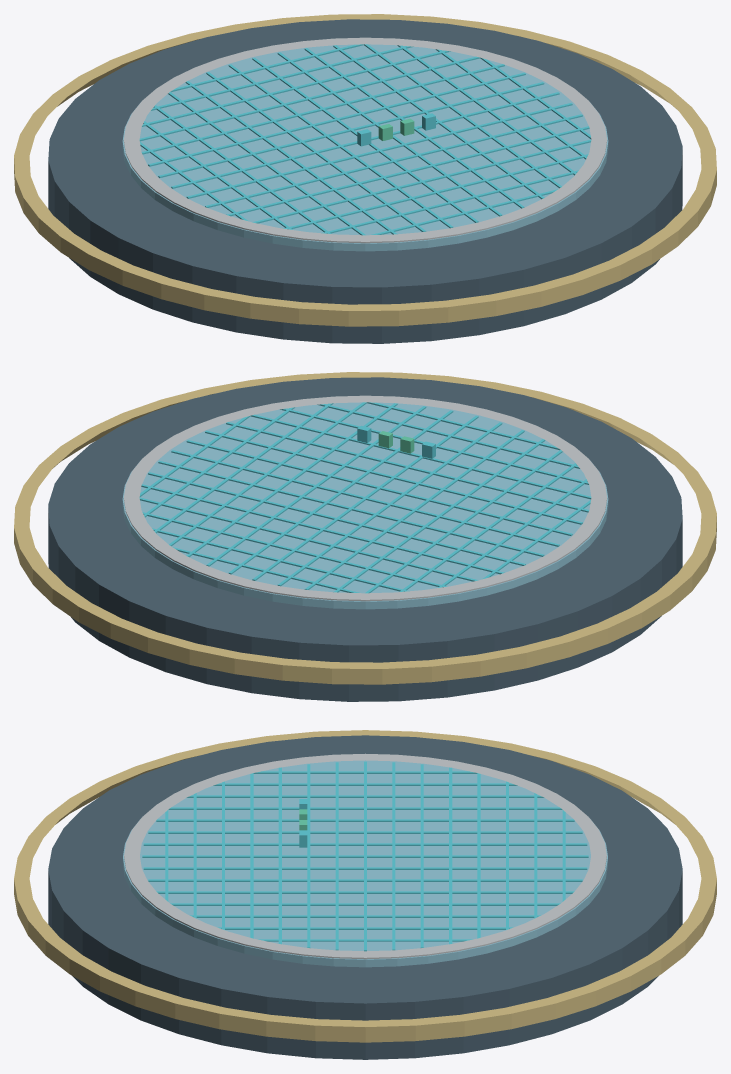
Rendered from 44_L78_RotatingCureWaferPlaten.glb.
3 views of the same model, one above another, from view 1: azimuth 30°, elevation 25°; view 2: azimuth 150°, elevation 25°; view 3: azimuth 270°, elevation 25° (orthographic).
Visible parts, largest first — view 1: RotatingCureWaferPlaten_Node_0000, RotatingCureWaferPlaten_Node_0001, RotatingCureWaferPlaten_Node_0033, RotatingCureWaferPlaten_Node_0002, RotatingCureWaferPlaten_Node_0016, RotatingCureWaferPlaten_Node_0020, RotatingCureWaferPlaten_Node_0022, RotatingCureWaferPlaten_Node_0014, RotatingCureWaferPlaten_Node_0012, RotatingCureWaferPlaten_Node_0024, RotatingCureWaferPlaten_Node_0010, RotatingCureWaferPlaten_Node_0026 (+20 smaller); view 2: RotatingCureWaferPlaten_Node_0000, RotatingCureWaferPlaten_Node_0001, RotatingCureWaferPlaten_Node_0033, RotatingCureWaferPlaten_Node_0002, RotatingCureWaferPlaten_Node_0018, RotatingCureWaferPlaten_Node_0016, RotatingCureWaferPlaten_Node_0014, RotatingCureWaferPlaten_Node_0020, RotatingCureWaferPlaten_Node_0022, RotatingCureWaferPlaten_Node_0024, RotatingCureWaferPlaten_Node_0012, RotatingCureWaferPlaten_Node_0010 (+20 smaller); view 3: RotatingCureWaferPlaten_Node_0000, RotatingCureWaferPlaten_Node_0001, RotatingCureWaferPlaten_Node_0033, RotatingCureWaferPlaten_Node_0002, RotatingCureWaferPlaten_Node_0017, RotatingCureWaferPlaten_Node_0019, RotatingCureWaferPlaten_Node_0015, RotatingCureWaferPlaten_Node_0013, RotatingCureWaferPlaten_Node_0021, RotatingCureWaferPlaten_Node_0011, RotatingCureWaferPlaten_Node_0023, RotatingCureWaferPlaten_Node_0025 (+16 smaller).
Boxes of the visible parts, x1,y1,x2,y2 form: RotatingCureWaferPlaten_Node_0000: (48,19,682,343); RotatingCureWaferPlaten_Node_0001: (122,44,608,251); RotatingCureWaferPlaten_Node_0033: (14,14,716,326); RotatingCureWaferPlaten_Node_0002: (123,37,607,243); RotatingCureWaferPlaten_Node_0016: (158,82,544,177); RotatingCureWaferPlaten_Node_0020: (186,103,572,198); RotatingCureWaferPlaten_Node_0022: (205,114,582,207); RotatingCureWaferPlaten_Node_0014: (148,72,525,166); RotatingCureWaferPlaten_Node_0012: (141,64,504,154); RotatingCureWaferPlaten_Node_0024: (226,126,589,216); RotatingCureWaferPlaten_Node_0010: (139,56,479,141); RotatingCureWaferPlaten_Node_0026: (252,139,591,223); RotatingCureWaferPlaten_Node_0000: (48,377,682,701); RotatingCureWaferPlaten_Node_0001: (122,402,608,609); RotatingCureWaferPlaten_Node_0033: (14,372,716,684); RotatingCureWaferPlaten_Node_0002: (123,395,607,601); RotatingCureWaferPlaten_Node_0018: (171,450,559,546); RotatingCureWaferPlaten_Node_0016: (158,461,544,556); RotatingCureWaferPlaten_Node_0014: (148,472,525,565); RotatingCureWaferPlaten_Node_0020: (186,440,572,535); RotatingCureWaferPlaten_Node_0022: (205,430,582,524); RotatingCureWaferPlaten_Node_0024: (226,422,589,512); RotatingCureWaferPlaten_Node_0012: (141,484,504,574); RotatingCureWaferPlaten_Node_0010: (139,497,478,581); RotatingCureWaferPlaten_Node_0000: (48,735,682,1059); RotatingCureWaferPlaten_Node_0001: (123,760,607,967); RotatingCureWaferPlaten_Node_0033: (14,730,716,1042); RotatingCureWaferPlaten_Node_0002: (124,753,606,959); RotatingCureWaferPlaten_Node_0017: (142,855,588,857); RotatingCureWaferPlaten_Node_0019: (143,867,587,869); RotatingCureWaferPlaten_Node_0015: (143,843,587,845); RotatingCureWaferPlaten_Node_0013: (148,831,582,833); RotatingCureWaferPlaten_Node_0021: (148,879,582,881); RotatingCureWaferPlaten_Node_0011: (156,819,574,821); RotatingCureWaferPlaten_Node_0023: (156,891,574,893); RotatingCureWaferPlaten_Node_0025: (170,903,560,905).
Bounding box in the file's own units: 2.26 × 0.3856 × 2.26.
